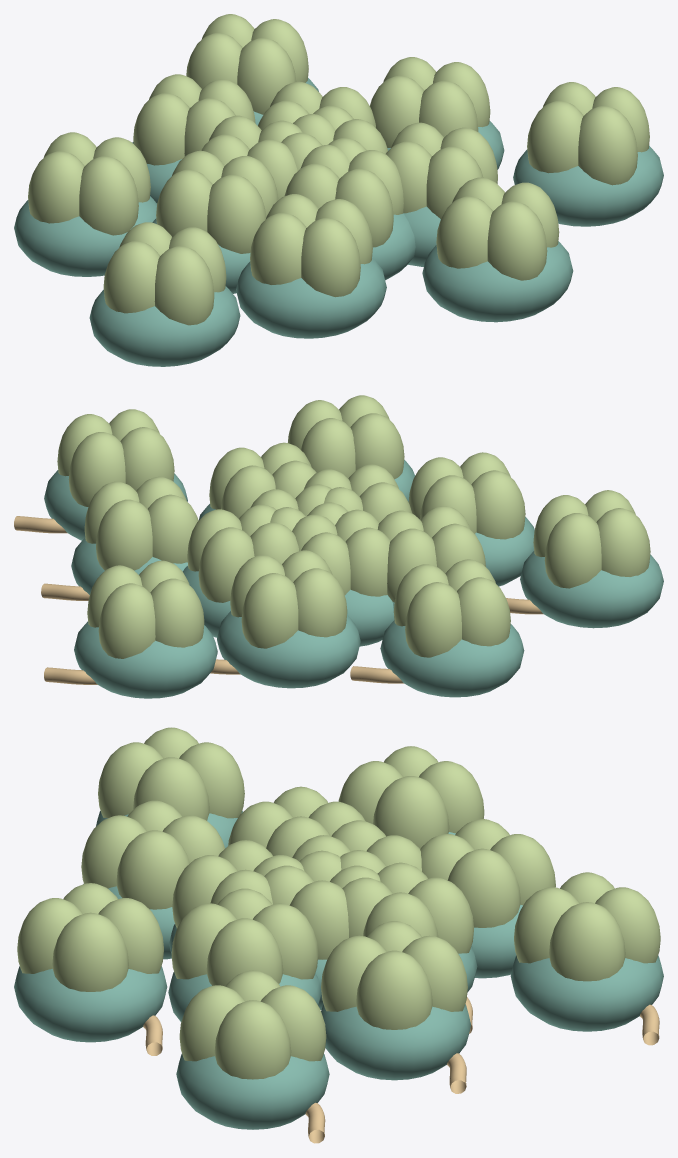
File: bio_oxygen_reef_21_near.glb
3 views of the same model, one above another, from view 1: azimuth 30°, elevation 25°; view 2: azimuth 150°, elevation 25°; view 3: azimuth 270°, elevation 25° (orthographic). The views are drawn at different scales.
Parts seen in each view (by area): view 1: Lobed gas sac.040, Lobed gas sac.048, Lobed gas sac.036, Lobed gas sac.028, Lobed gas sac.052, Lobed gas sac.016, Lobed gas sac.044, Lobed gas sac.032, Photosynthetic cushion.012, Photosynthetic cushion.007, Photosynthetic cushion.010, Lobed gas sac.024 (+12 smaller); view 2: Lobed gas sac.024, Lobed gas sac.036, Lobed gas sac.044, Lobed gas sac.048, Lobed gas sac.032, Lobed gas sac.052, Lobed gas sac.040, Lobed gas sac.028, Photosynthetic cushion.011, Photosynthetic cushion.009, Photosynthetic cushion.012, Photosynthetic cushion.006 (+15 smaller); view 3: Lobed gas sac.052, Lobed gas sac.032, Lobed gas sac.040, Lobed gas sac.044, Lobed gas sac.020, Lobed gas sac.048, Lobed gas sac.028, Lobed gas sac.036, Lobed gas sac.024, Photosynthetic cushion.010, Photosynthetic cushion.013, Photosynthetic cushion.011 (+13 smaller).
Boxes of the visible parts, box(x1,y1,x2,y2) form: Lobed gas sac.040: box(436, 177, 559, 280); Lobed gas sac.048: box(103, 222, 226, 325); Lobed gas sac.036: box(28, 132, 150, 235); Lobed gas sac.028: box(250, 194, 372, 297); Lobed gas sac.052: box(527, 82, 649, 185); Lobed gas sac.016: box(156, 150, 278, 253); Lobed gas sac.044: box(186, 14, 308, 114); Lobed gas sac.032: box(370, 57, 490, 147); Photosynthetic cushion.012: box(89, 286, 240, 366); Photosynthetic cushion.007: box(236, 258, 386, 338); Photosynthetic cushion.010: box(422, 241, 573, 322); Lobed gas sac.024: box(133, 74, 255, 165); Lobed gas sac.024: box(230, 550, 347, 648); Lobed gas sac.036: box(393, 559, 510, 657); Lobed gas sac.044: box(87, 560, 204, 658); Lobed gas sac.048: box(533, 490, 650, 588); Lobed gas sac.032: box(84, 476, 198, 570); Lobed gas sac.052: box(57, 409, 174, 506); Lobed gas sac.040: box(288, 395, 404, 479); Lobed gas sac.028: box(408, 452, 525, 539); Photosynthetic cushion.011: box(74, 621, 217, 698); Photosynthetic cushion.009: box(380, 620, 524, 697); Photosynthetic cushion.012: box(520, 551, 663, 628); Photosynthetic cushion.006: box(217, 611, 360, 688); Lobed gas sac.052: box(179, 970, 326, 1079); Lobed gas sac.032: box(321, 921, 467, 1029); Lobed gas sac.040: box(17, 883, 163, 991); Lobed gas sac.044: box(514, 872, 660, 981); Lobed gas sac.020: box(171, 888, 318, 986); Lobed gas sac.048: box(98, 727, 244, 820); Lobed gas sac.028: box(81, 800, 224, 909); Lobed gas sac.036: box(338, 746, 484, 848); Lobed gas sac.024: box(420, 819, 555, 927); Photosynthetic cushion.010: box(14, 966, 167, 1042); Photosynthetic cushion.013: box(176, 1054, 329, 1129); Photosynthetic cushion.011: box(510, 955, 663, 1031).
Size of the model in its own units: 2.35 by 0.45 by 2.03.
